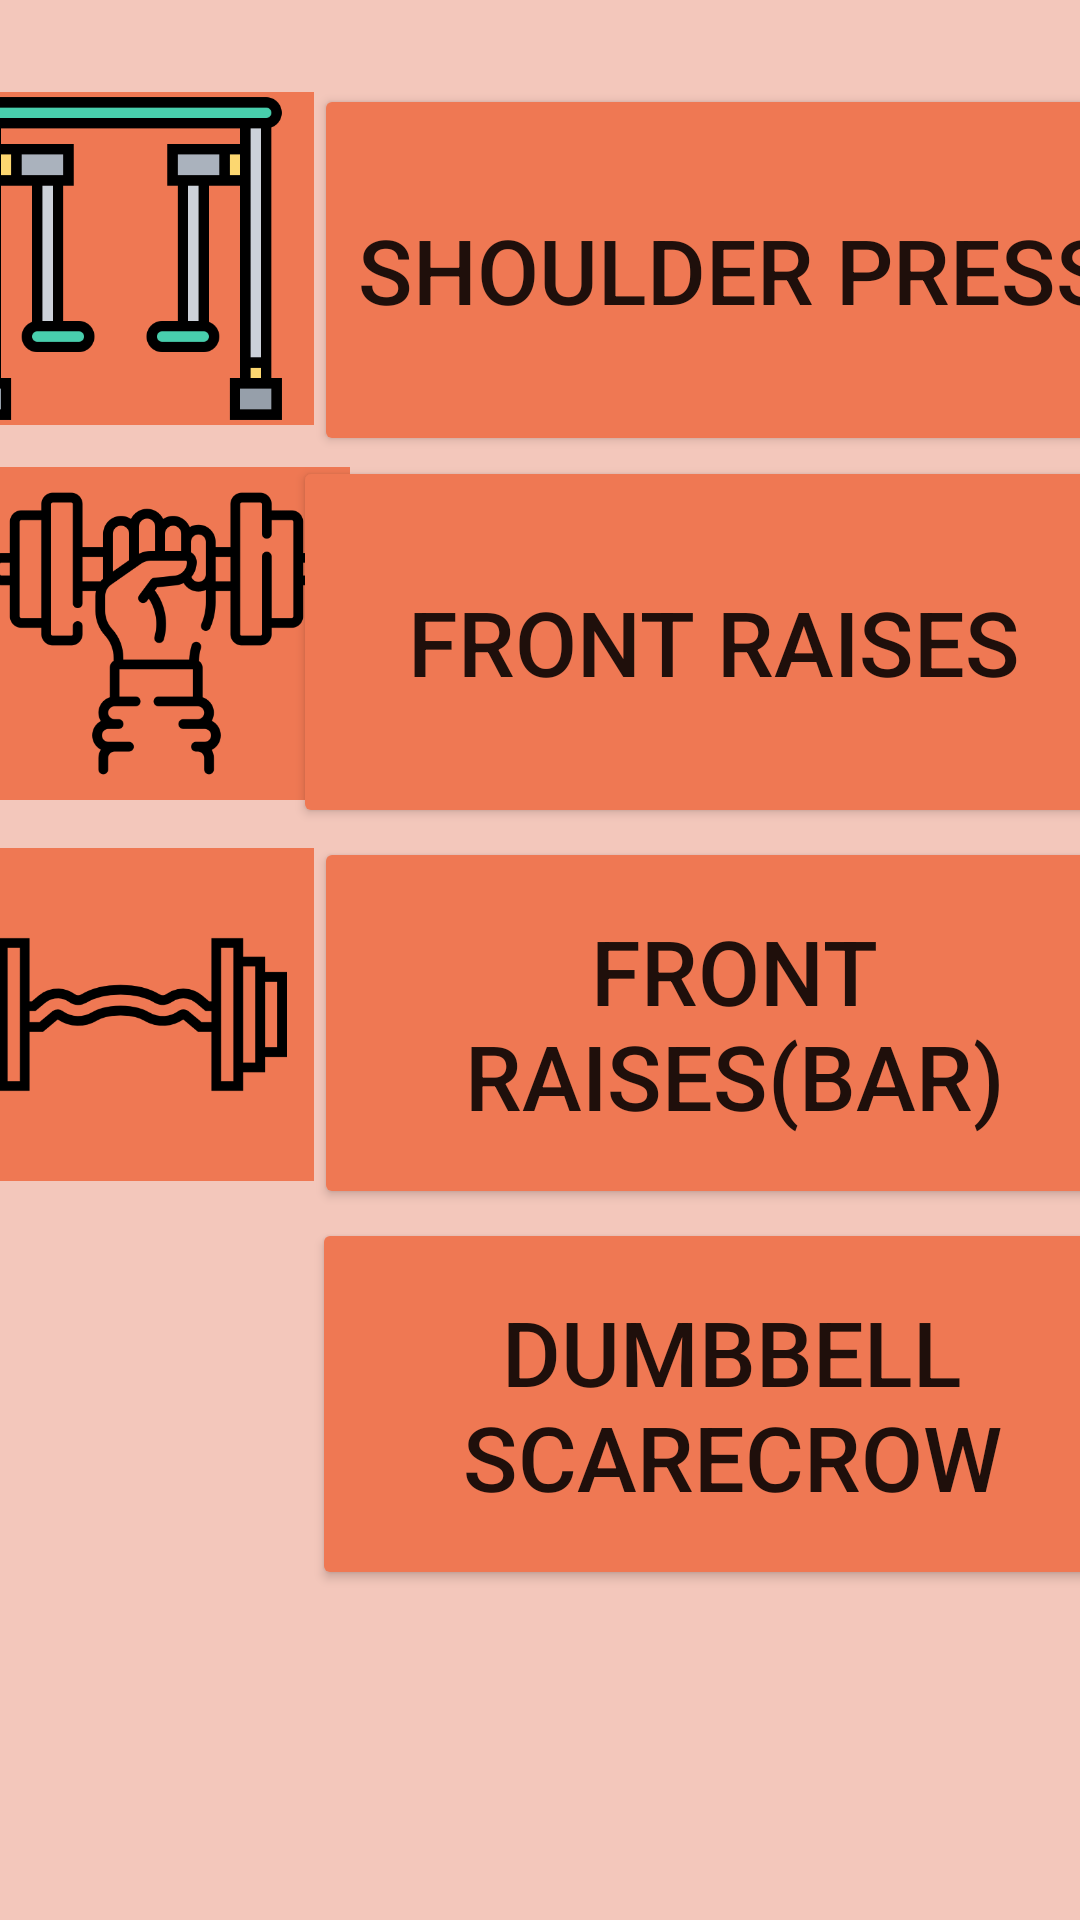

Icons on this 1080×1920 Android screen, each with the point to tap as [x,y]:
dumbbell wrist: [152,633]
